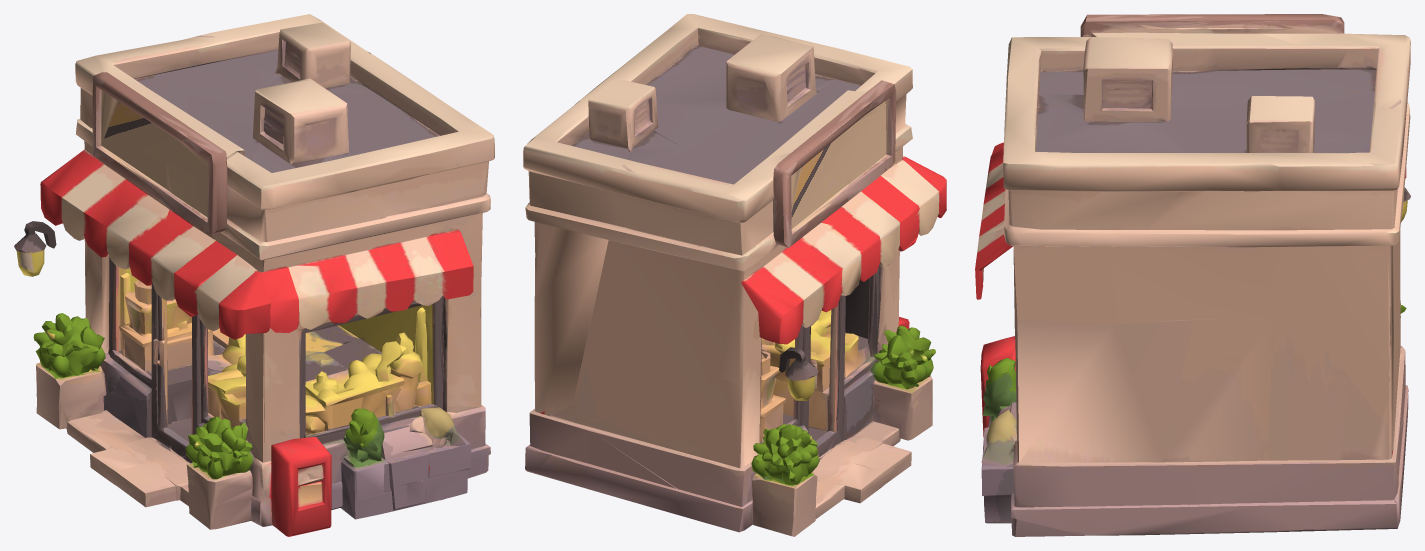
Rendered from m11_03_convenience.glb.
3 renders of one model, left to right at view 1: azimuth 30°, elevation 25°; view 2: azimuth 150°, elevation 25°; view 3: azimuth 270°, elevation 25°, orthographic. The views are drawn at different scales.
Visible parts, largest first — view 1: convenience; view 2: convenience; view 3: convenience.
Boxes of the visible parts, <box> form: convenience: <box>14,14,494,536</box>; convenience: <box>523,14,946,536</box>; convenience: <box>975,14,1410,536</box>.
Size of the model in its own units: 6.27 by 7.47 by 6.99.
Materials: 2 (2 with a texture image).
